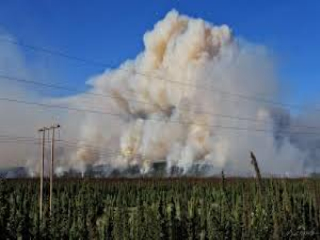smoke: (35, 13, 286, 174)
